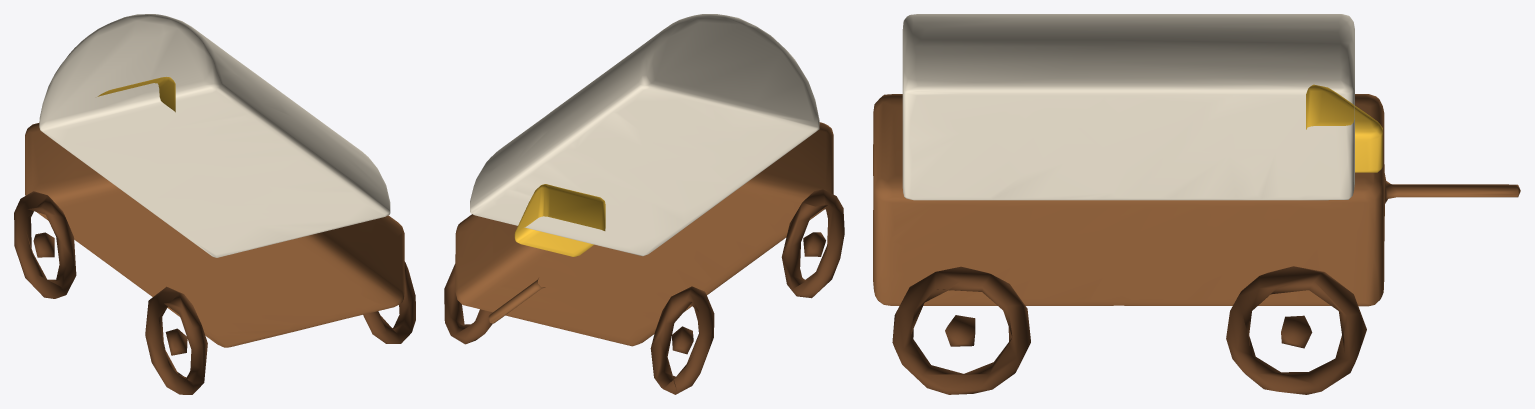
File: obj_caravan.glb
3 views of the same model, side by side, from view 1: azimuth 30°, elevation 25°; view 2: azimuth 150°, elevation 25°; view 3: azimuth 270°, elevation 25° (orthographic). The views are drawn at different scales.
Parts seen in each view (by area): view 1: body; view 2: body; view 3: body.
Boxes of the visible parts, box(x1,y1,x2,y2) form: body: box(14, 14, 415, 394); body: box(444, 14, 844, 394); body: box(873, 14, 1520, 394).
Bounding box in the file's own units: 3.33 × 3.41 × 6.59.
Materials: 1 (1 with a texture image).
